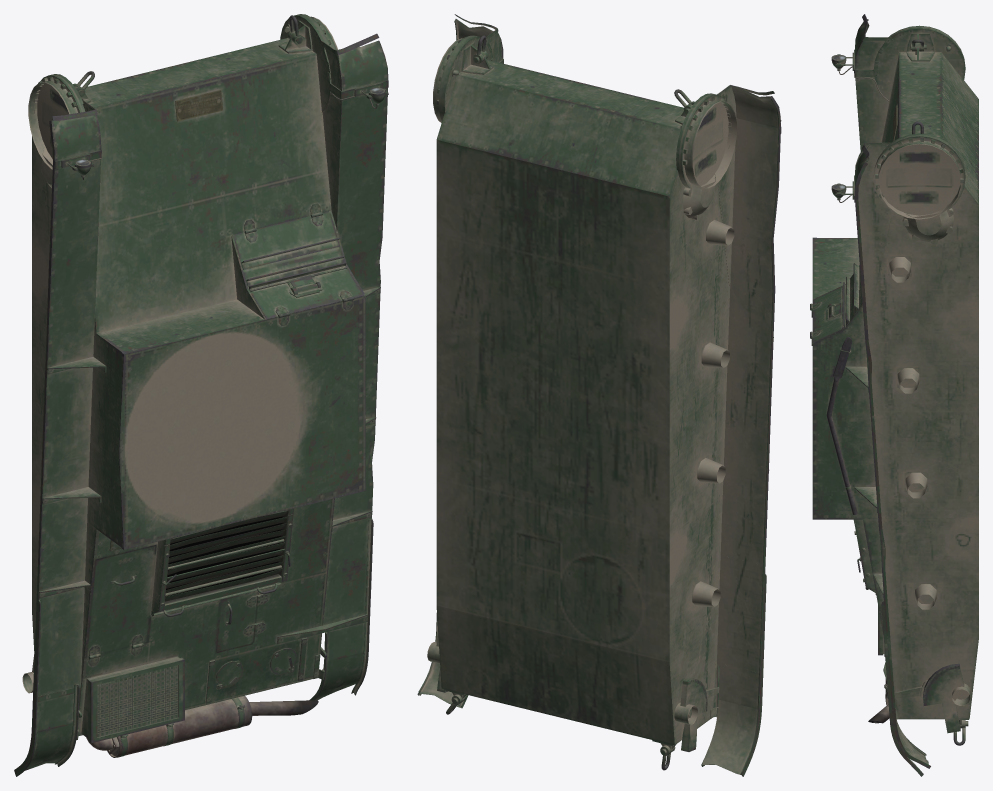
Rendered from Hull.glb.
The picture shows the model from 3 angles, left to right: view 1: azimuth 30°, elevation 25°; view 2: azimuth 150°, elevation 25°; view 3: azimuth 270°, elevation 25°; orthographic projection. The views are drawn at different scales.
Parts seen in each view (by area): view 1: set_0_group_0; view 2: set_0_group_0; view 3: set_0_group_0.
Part boxes in pixels (x1,y1,x2,y2): set_0_group_0: [14, 14, 388, 776]; set_0_group_0: [417, 14, 781, 776]; set_0_group_0: [810, 14, 978, 776].
Size of the model in its own units: 2.32 by 4.58 by 1.12.
1 material, 1 textured.
